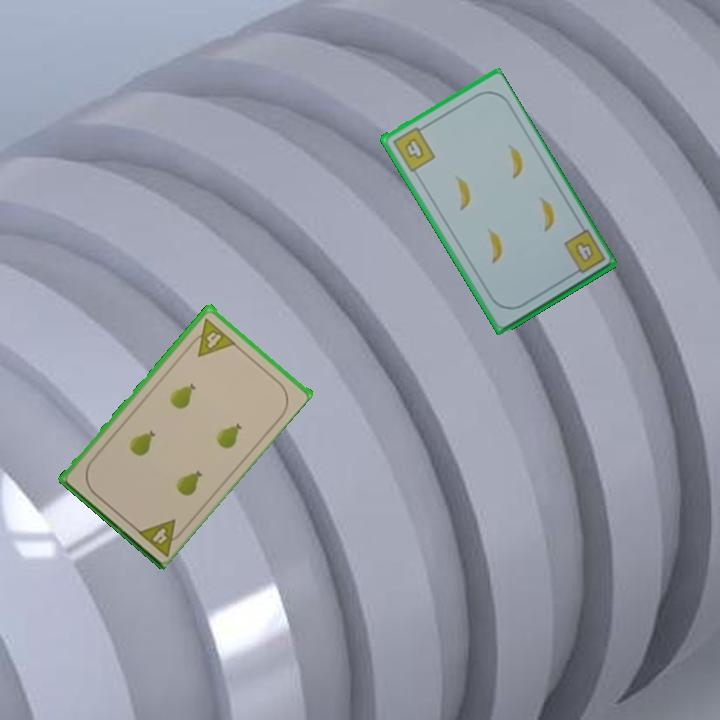4b: (388, 122, 438, 174), (560, 226, 608, 280)
4p: (133, 515, 189, 559), (185, 314, 237, 359)
